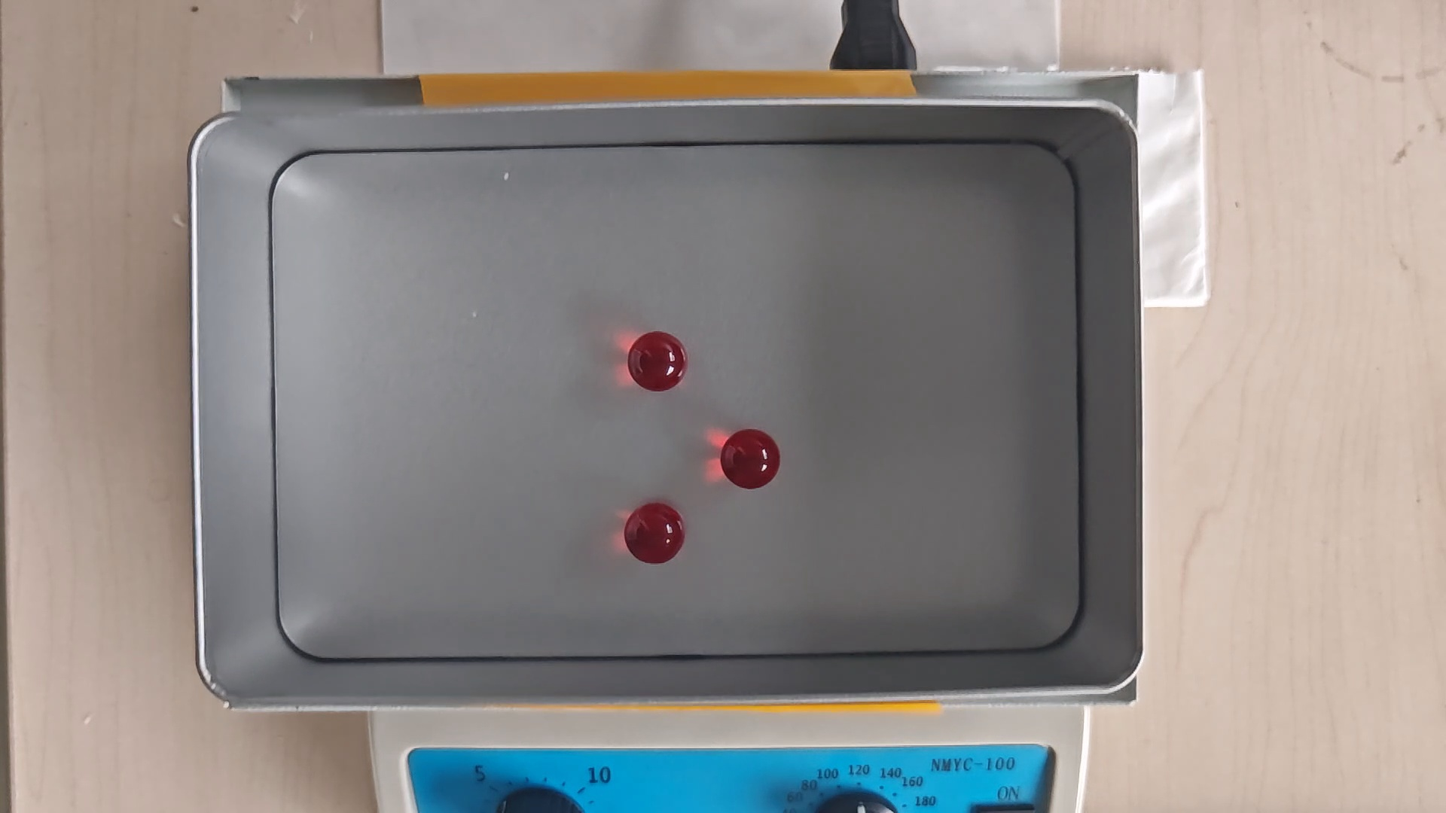ball: (720, 428, 782, 490), (624, 503, 685, 565), (628, 330, 688, 393)
container: (270, 148, 1082, 653)
